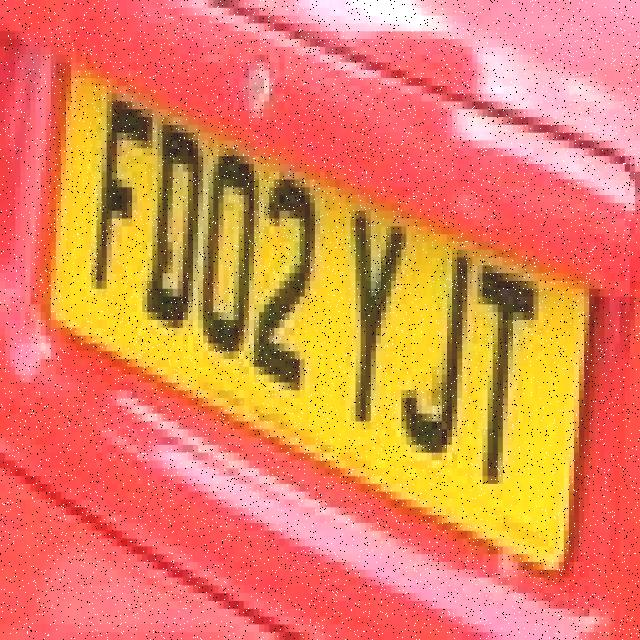licenseplate: (57, 48, 580, 576)
